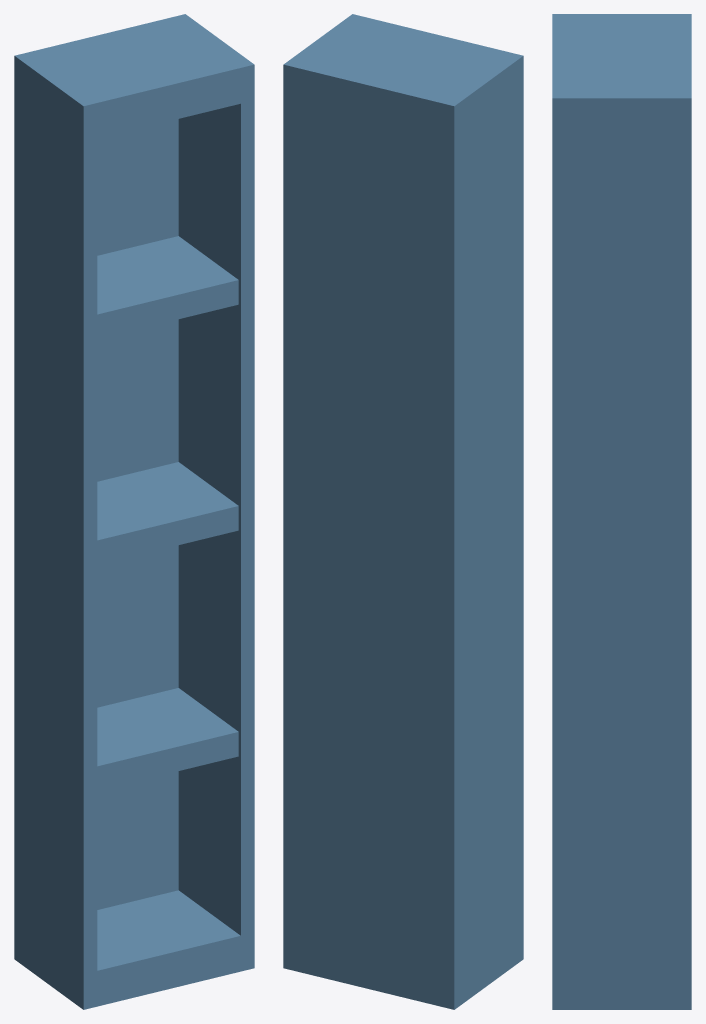
File: billy-blue.gltf
The picture shows the model from 3 angles, left to right: view 1: azimuth 30°, elevation 25°; view 2: azimuth 150°, elevation 25°; view 3: azimuth 270°, elevation 25°; orthographic projection.
Visible parts, largest first — view 1: left-side, right-side, back, top, bottom, shelf-3, shelf-1, shelf-2; view 2: back, left-side, top, right-side, bottom; view 3: right-side, back, top, bottom, left-side.
Part boxes in pixels (x1,y1,x2,y2): left-side: [14, 52, 97, 1009]; right-side: [172, 14, 254, 971]; back: [14, 14, 191, 963]; top: [15, 14, 254, 138]; bottom: [14, 890, 254, 1009]; shelf-3: [97, 236, 238, 338]; shelf-1: [97, 688, 238, 790]; shelf-2: [97, 462, 238, 564]; back: [283, 60, 461, 1009]; left-side: [440, 52, 523, 1008]; top: [283, 14, 523, 136]; right-side: [283, 14, 365, 970]; bottom: [283, 926, 523, 1008]; right-side: [552, 91, 691, 1009]; back: [677, 14, 691, 1009]; top: [552, 14, 691, 134]; bottom: [552, 974, 691, 1009]; left-side: [552, 14, 691, 20].
Bounding box in the file's own units: 0.4 × 2.02 × 0.28.
